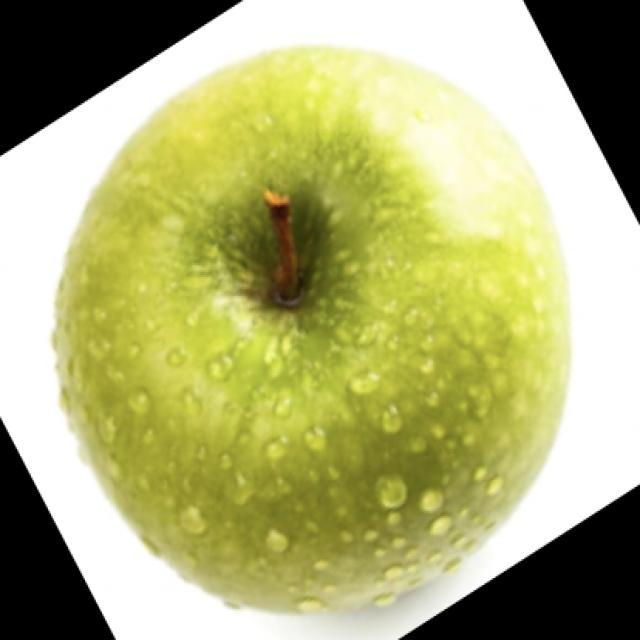Fresh Apple: (62, 44, 575, 618)
